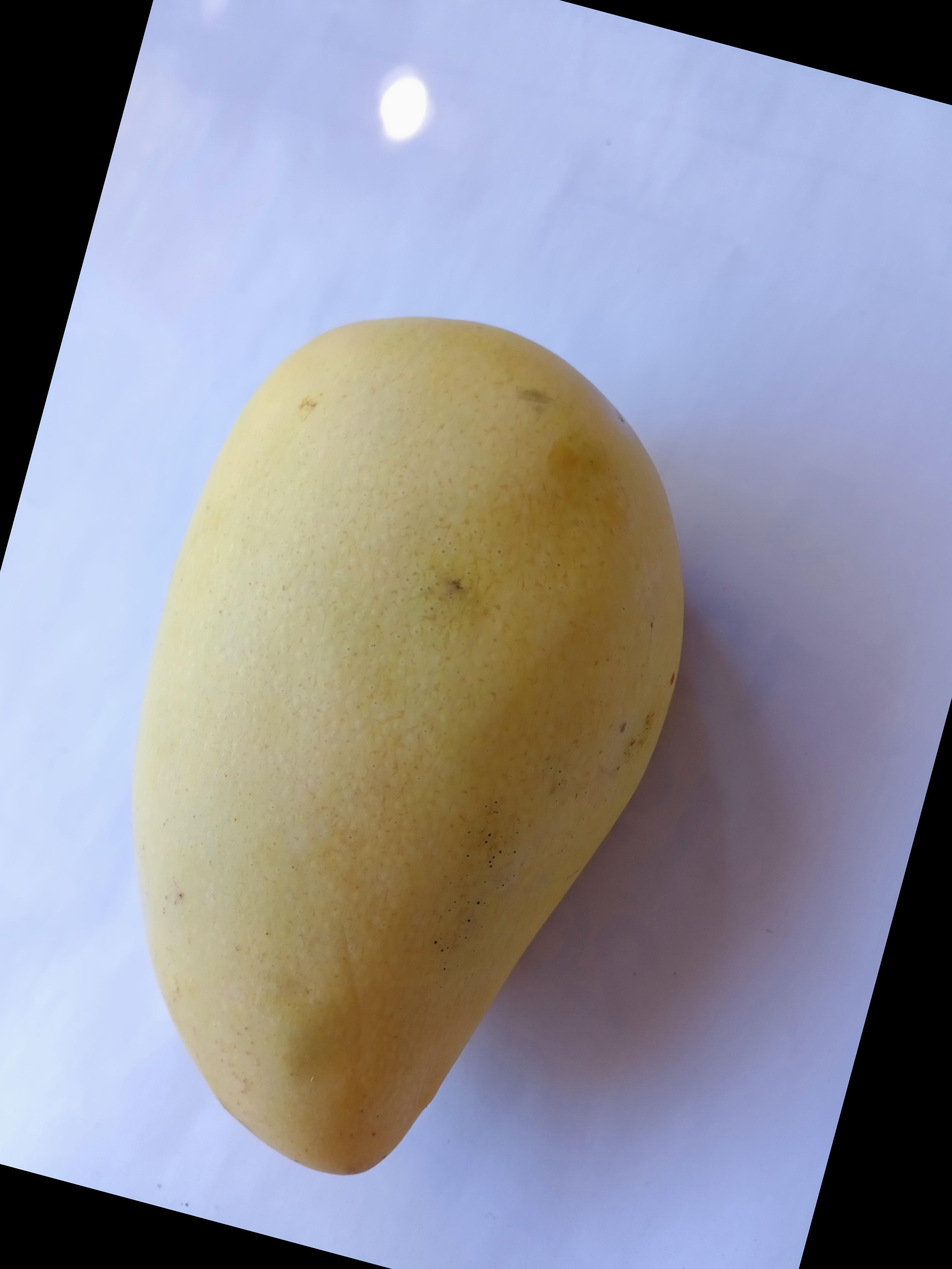Mango Ripe: (205, 38, 952, 1160)
